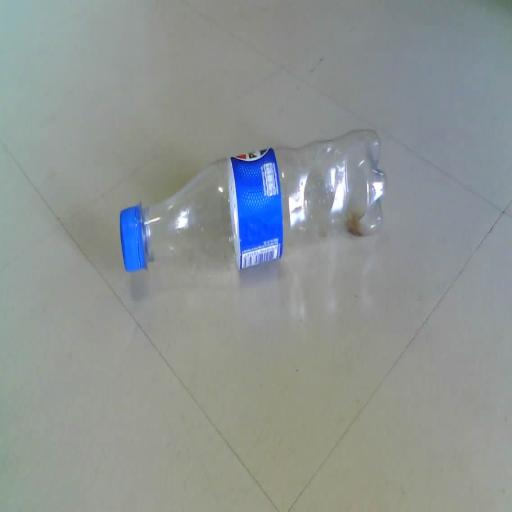bottle: (98, 106, 412, 318)
